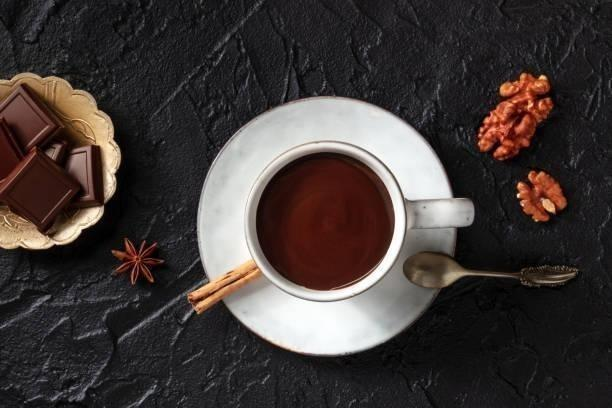cup-handle: (242, 137, 475, 304)
